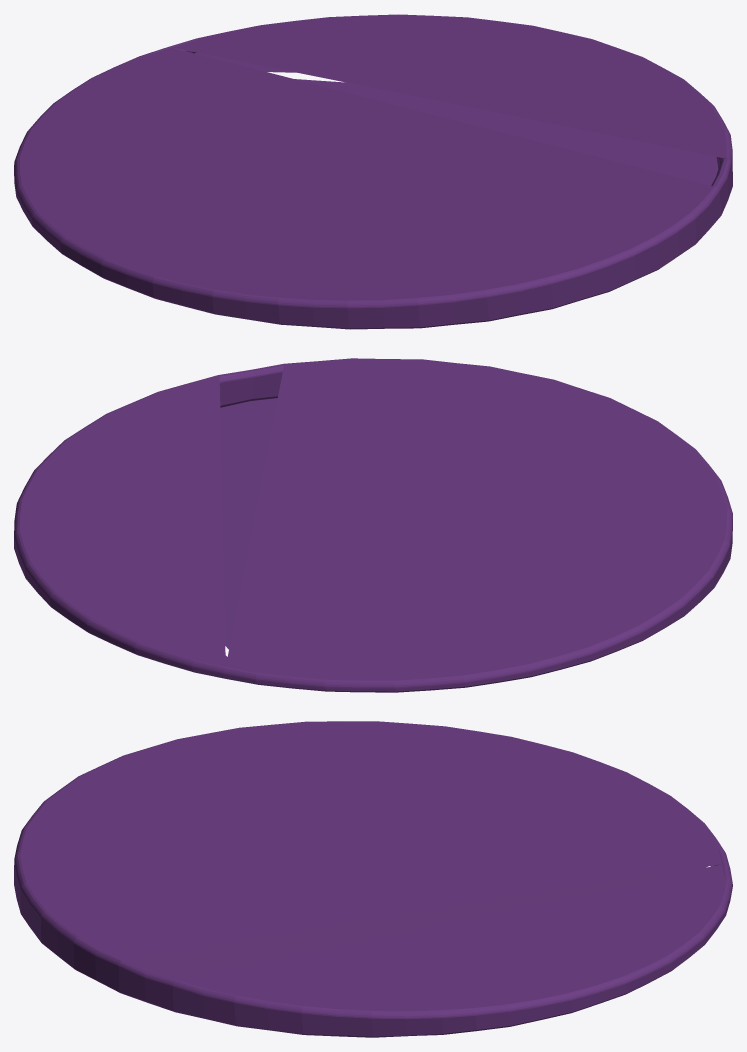
The model's file is eletrosfera2.2.fbx.
3 renders of one model, top to bottom at view 1: azimuth 30°, elevation 25°; view 2: azimuth 150°, elevation 25°; view 3: azimuth 270°, elevation 25°, orthographic.
Visible parts, largest first — view 1: Circle_003; view 2: Circle_003; view 3: Circle_003.
Boxes of the visible parts, <box> form: Circle_003: <box>14,14,732,329</box>; Circle_003: <box>14,358,732,692</box>; Circle_003: <box>14,721,732,1037</box>.
Size of the model in its own units: 2 by 0.1076 by 2.
